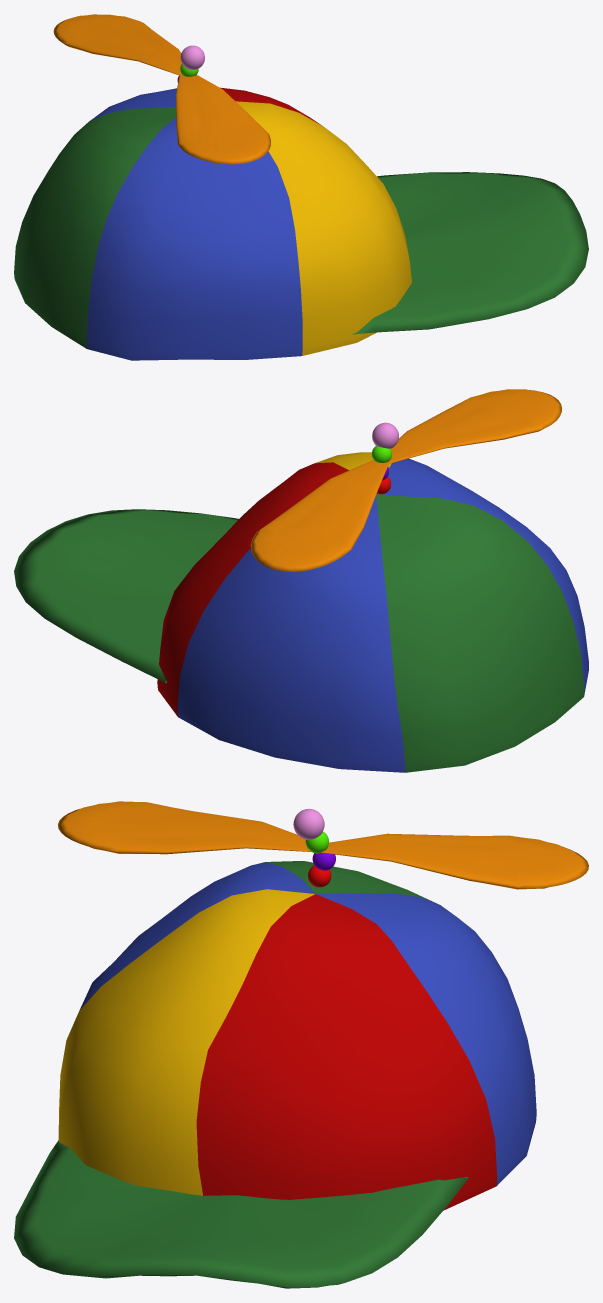
The model's file is hat2.fbx.
The picture shows the model from 3 angles, top to bottom: view 1: azimuth 30°, elevation 25°; view 2: azimuth 150°, elevation 25°; view 3: azimuth 270°, elevation 25°; orthographic projection. The views are drawn at different scales.
Visible parts, largest first — view 1: pSphere5; view 2: pSphere5; view 3: pSphere5.
Boxes of the visible parts, x1,y1,x2,y2 form: pSphere5: [14, 14, 588, 360]; pSphere5: [14, 389, 588, 772]; pSphere5: [14, 801, 588, 1288].
Size of the model in its own units: 12.18 by 5.76 by 9.75.
